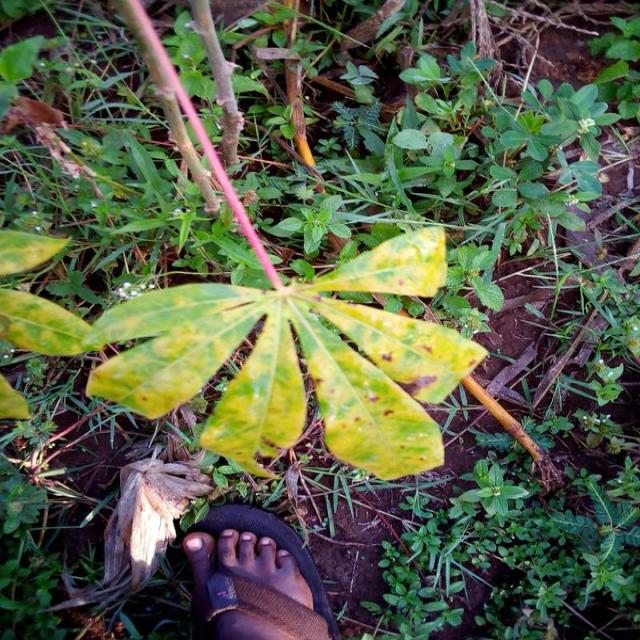cassava leaf: (84, 221, 490, 481), (2, 286, 104, 357), (1, 227, 74, 276)
